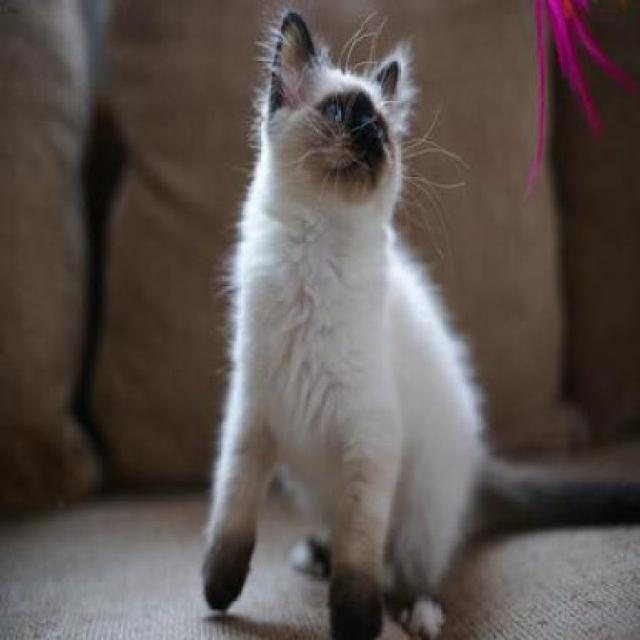cat: (203, 5, 639, 638)
